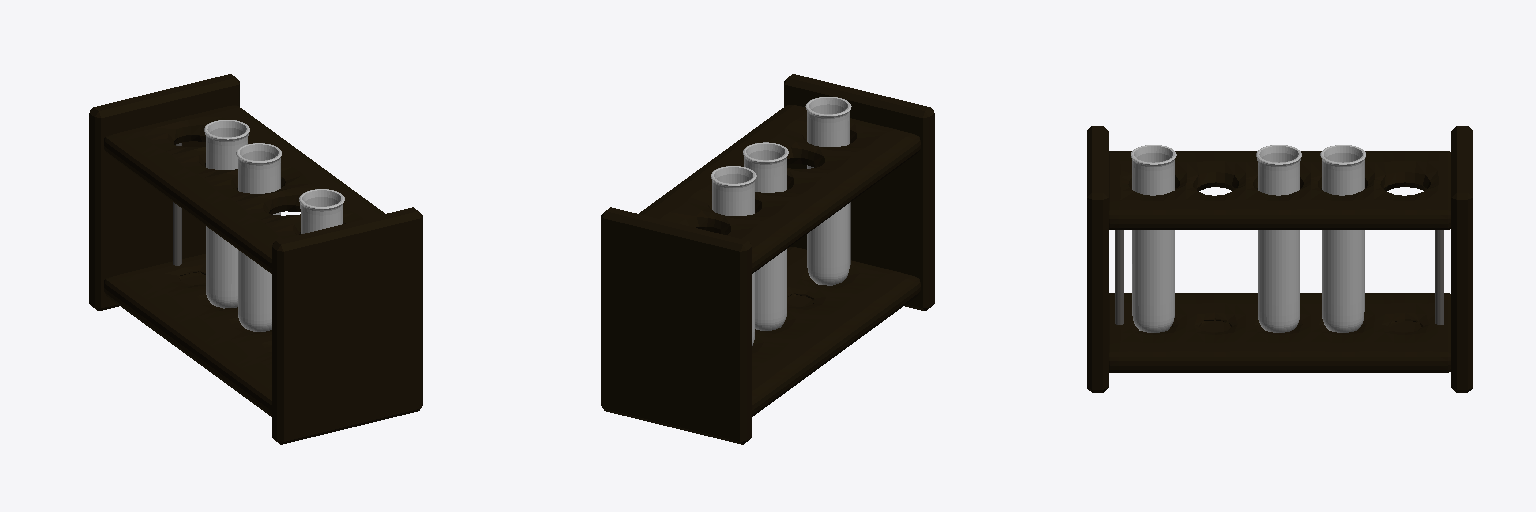
The model's file is VialRack.obj.
3 views of the same model, side by side, from view 1: azimuth 30°, elevation 25°; view 2: azimuth 150°, elevation 25°; view 3: azimuth 270°, elevation 25° (orthographic).
Visible parts, largest first — view 1: Stand VialRack LeftWall, Top Stand VialRack, Stand VialRack RightWall, Stand VialRack Bot, VialRack Vials Vial2, VialRack Vials Vial3, VialRack Vial1 Vials, Stand VialRack RightBrace; view 2: Stand VialRack RightWall, Top Stand VialRack, Stand VialRack LeftWall, Stand VialRack Bot, VialRack Vial1 Vials, VialRack Vials Vial2, VialRack Vials Vial3; view 3: Stand VialRack Bot, Top Stand VialRack, VialRack Vial1 Vials, VialRack Vials Vial3, VialRack Vials Vial2, Stand VialRack LeftWall, Stand VialRack RightWall, Stand VialRack LeftBrace, Stand VialRack RightBrace.
Part boxes in pixels (x1,y1,x2,y2): Stand VialRack LeftWall: (272,207,422,444); Top Stand VialRack: (104,105,384,273); Stand VialRack RightWall: (89,74,239,310); Stand VialRack Bot: (104,253,271,416); VialRack Vials Vial2: (236,143,281,331); VialRack Vials Vial3: (204,120,249,308); VialRack Vial1 Vials: (299,189,344,233); Stand VialRack RightBrace: (173,143,181,265); Stand VialRack RightWall: (601,207,751,444); Top Stand VialRack: (639,105,920,273); Stand VialRack LeftWall: (784,74,934,310); Stand VialRack Bot: (752,247,920,416); VialRack Vial1 Vials: (805,97,851,285); VialRack Vials Vial2: (743,142,788,330); VialRack Vials Vial3: (711,166,756,345); Stand VialRack Bot: (1109,293,1450,372); Top Stand VialRack: (1109,151,1450,229); VialRack Vial1 Vials: (1131,145,1176,332); VialRack Vials Vial3: (1320,145,1365,332); VialRack Vials Vial2: (1256,145,1301,332); Stand VialRack LeftWall: (1087,126,1108,392); Stand VialRack RightWall: (1451,126,1472,392); Stand VialRack LeftBrace: (1115,230,1123,324); Stand VialRack RightBrace: (1435,230,1443,324).
Size of the model in its own units: 3.72 by 5.05 by 8.55.